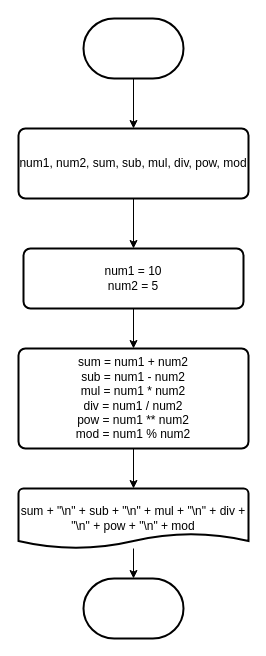
Some shapes in this 266 by 656 pixel diagram are drawn without their labels. The shapes that lost their labels are listed below. From the top down, each one's box as (x1, y1, x2, y2) in pixels, then its label:
(82, 17, 184, 79): Start
(82, 577, 184, 639): Stop
